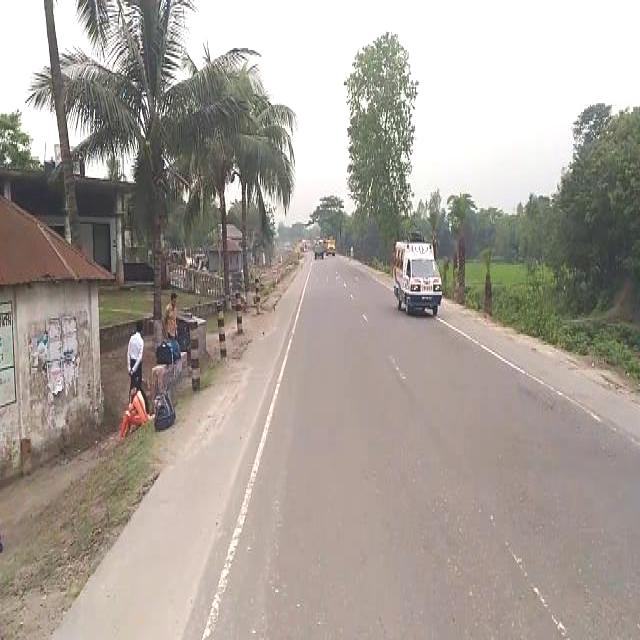TRUCK: (392, 246, 442, 318)
